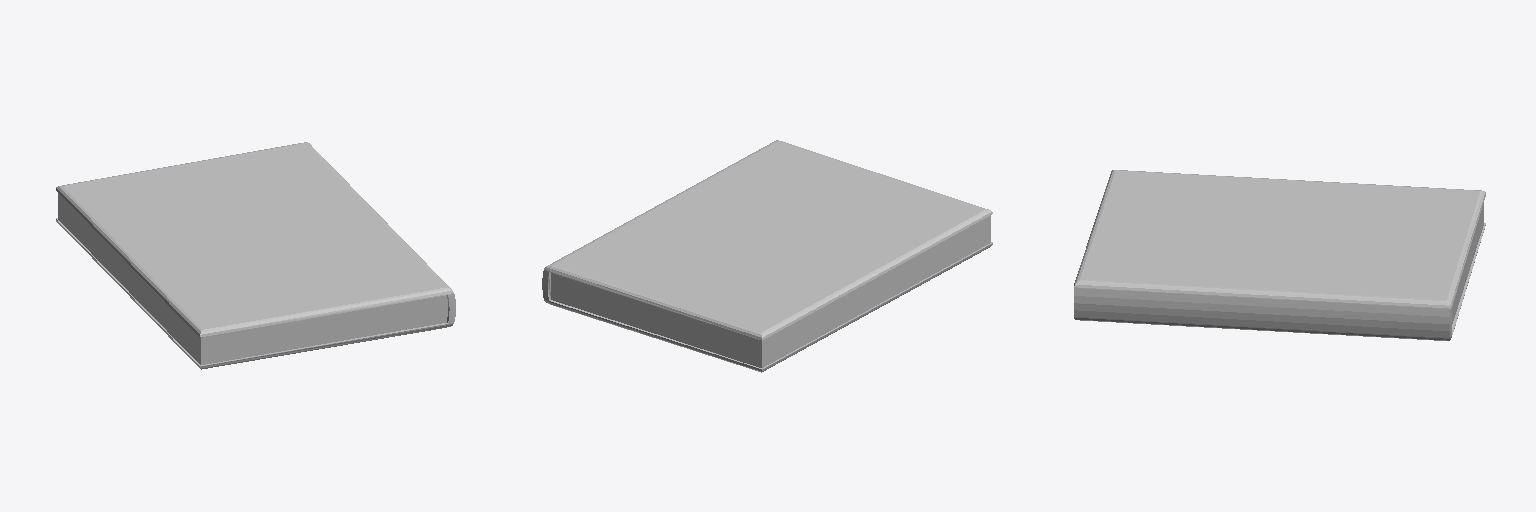
File: Book.obj
3 renders of one model, left to right at view 1: azimuth 30°, elevation 25°; view 2: azimuth 150°, elevation 25°; view 3: azimuth 270°, elevation 25°, orthographic.
Parts seen in each view (by area): view 1: Book BookStack1; view 2: Book BookStack1; view 3: Book BookStack1.
Part boxes in pixels (x1,y1,x2,y2): Book BookStack1: (56,142,455,369); Book BookStack1: (542,140,992,372); Book BookStack1: (1074,170,1485,340).
Bounding box in the file's own units: 1.27 × 0.1717 × 1.61.